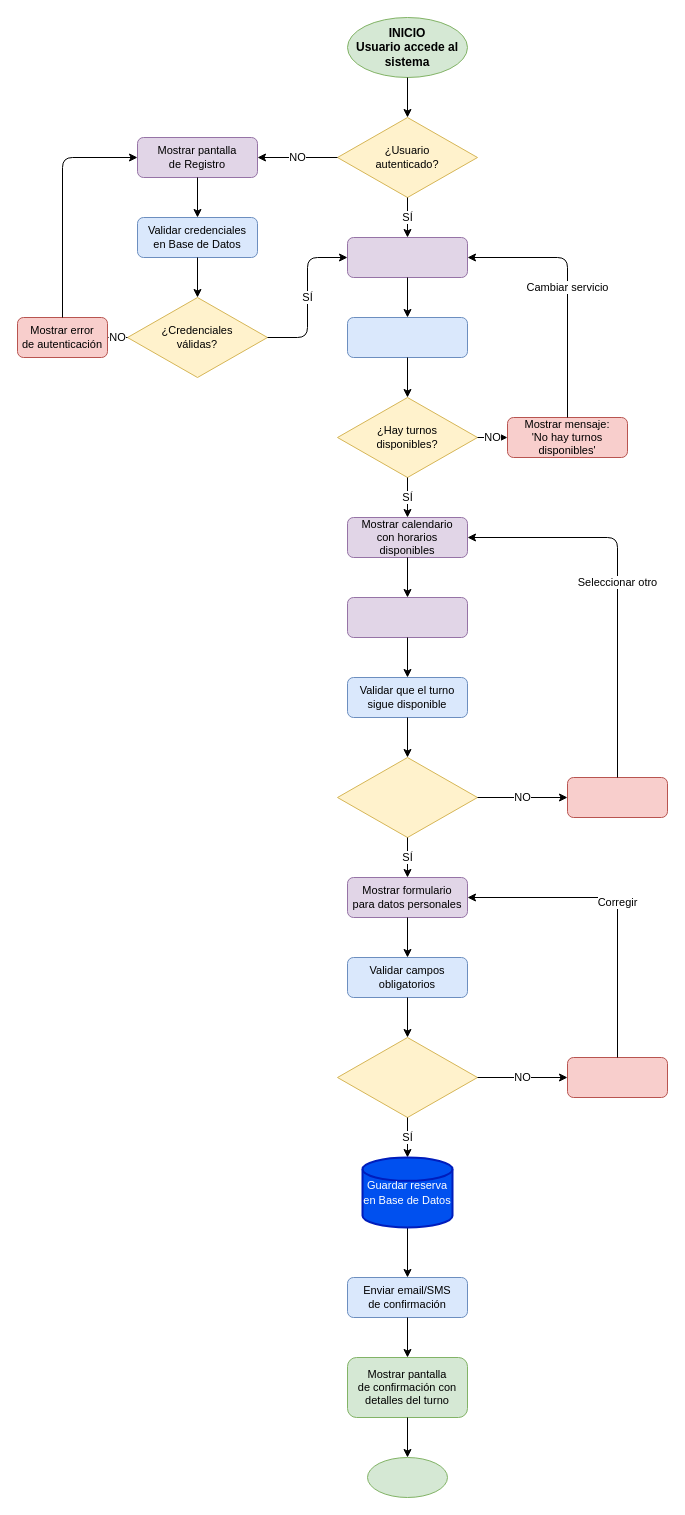
The diagram is 685 pixels wide and 1515 high, and some of its shapes have lost their labels. The shapes that lost their labels are listed below. From the top down, each one's centre as x and y in pixels, then its label:
At (x=407, y=257): "Mostrar lista de servicios disponibles".
At (x=407, y=337): "Consultar horarios disponibles".
At (x=407, y=617): "Usuario selecciona fecha y hora".
At (x=407, y=797): "¿Turno aún disponible?".
At (x=617, y=797): "Mostrar error: 'Turno ya ocupado'".
At (x=407, y=1077): "¿Datos completos?".
At (x=617, y=1077): "Mostrar errores de validación".
At (x=407, y=1477): "FIN".
